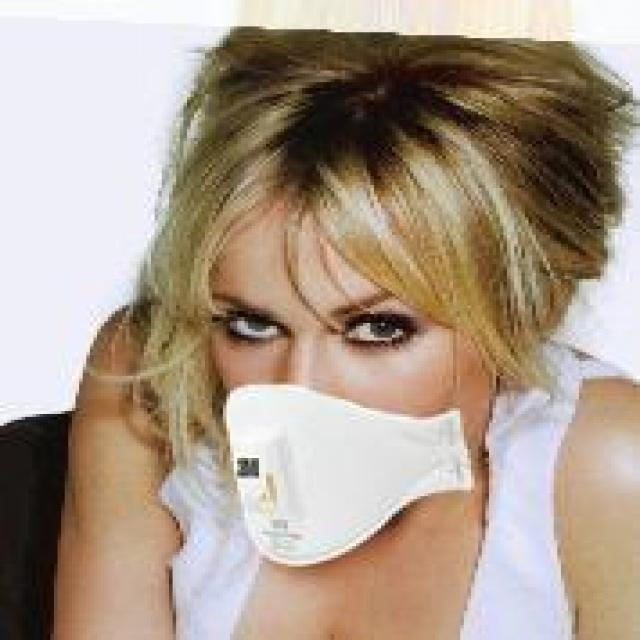mask: (86, 82, 554, 576)
